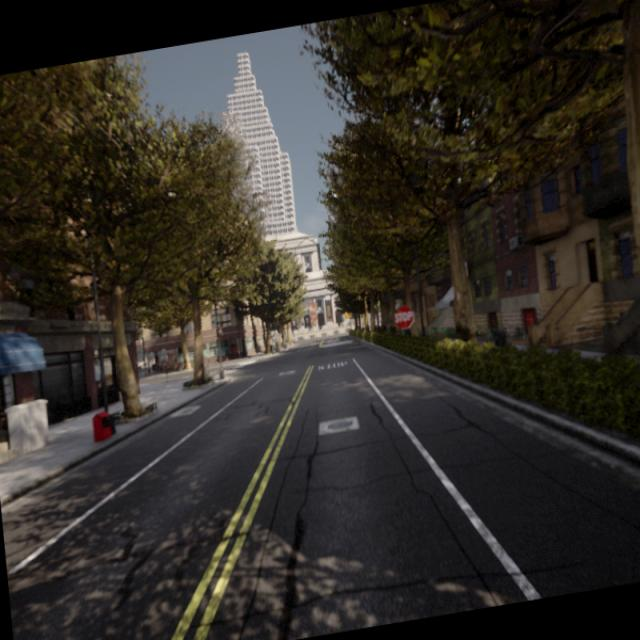stop sign: (392, 302, 416, 332)
